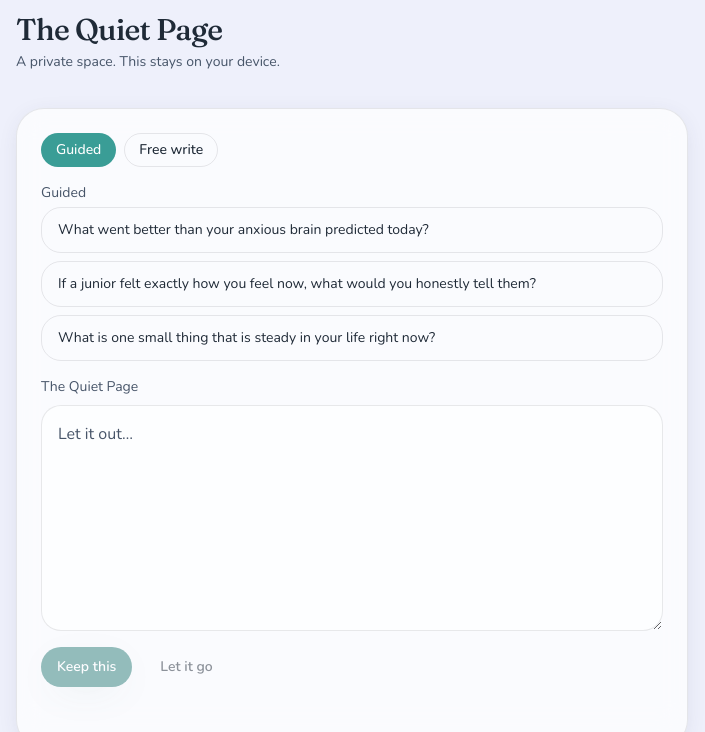
Scenario: Journal — The Quiet Page › saves an entry with the typed text when "Keep this" is clicked
The image size is (705, 732).
Type "today felt a little lighter" into the text box with placeholder "Let it out…". click: [352, 518]
box: top-left (41, 405), bottom-right (663, 631)
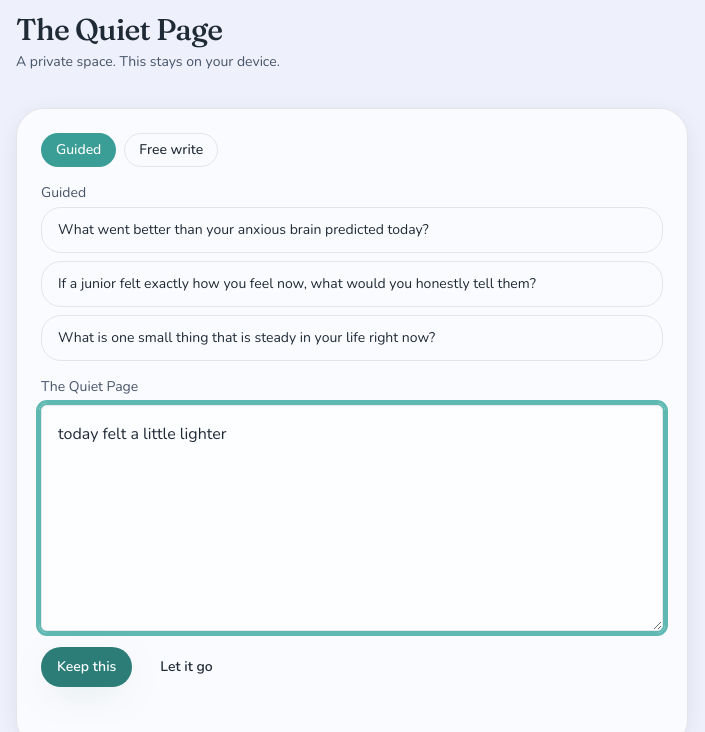
Click the button "Keep this". click: [87, 667]
box: top-left (41, 647), bottom-right (132, 687)
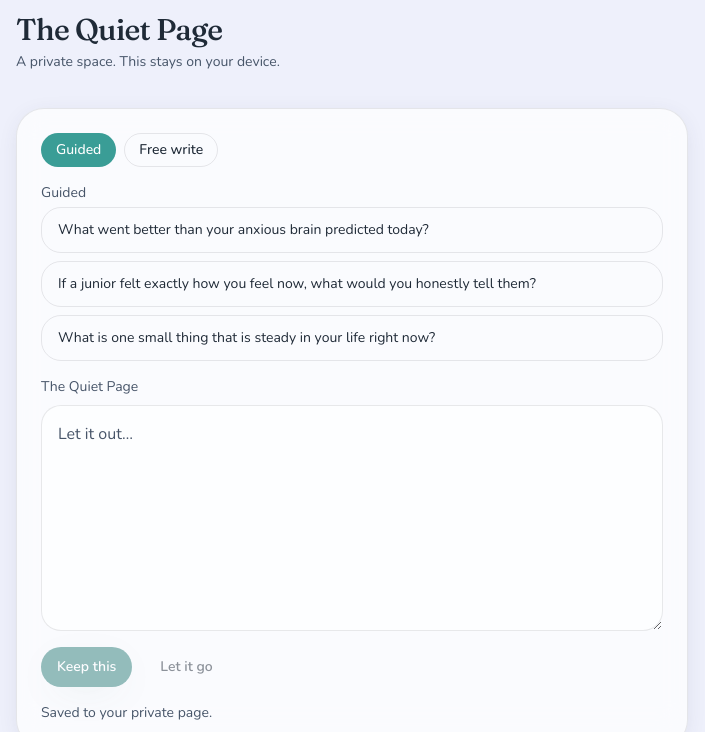
Now the text "Saved to your private page." is shown, box top-left (41, 703), bottom-right (212, 722)
